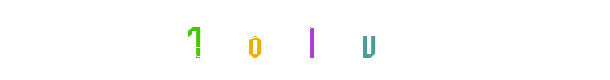1: (265, 0, 345, 80)
7: (156, 0, 236, 80)
O: (215, 0, 295, 80)
U: (305, 0, 385, 80)
